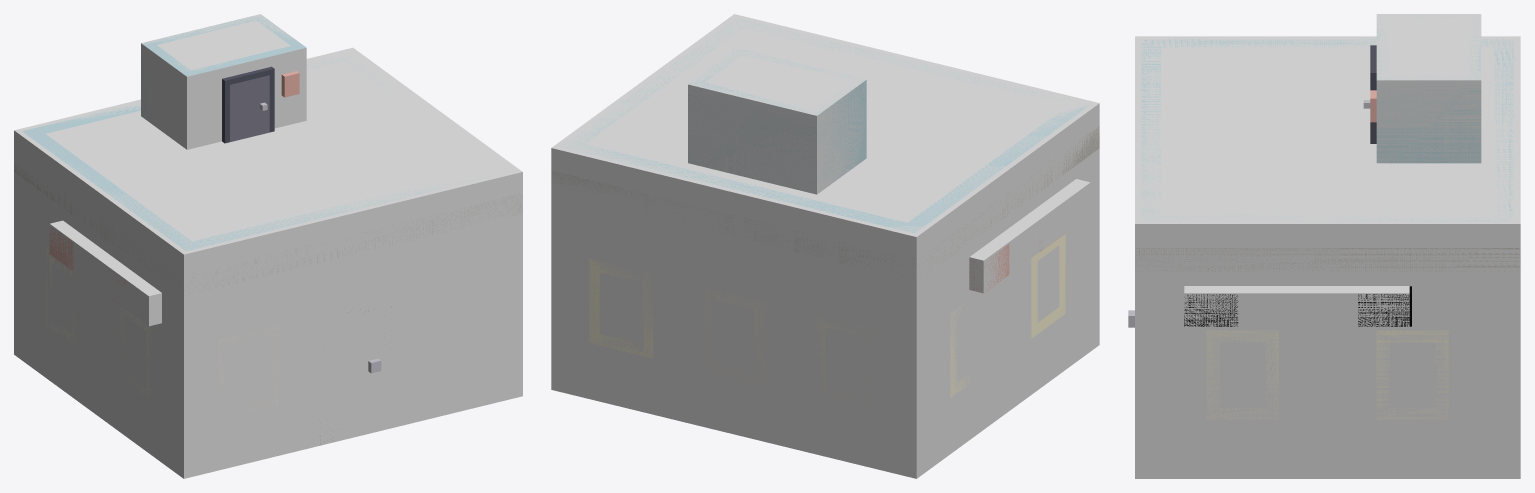
Rendered from Home09_B1_1_01.FBX.
3 renders of one model, left to right at view 1: azimuth 30°, elevation 25°; view 2: azimuth 150°, elevation 25°; view 3: azimuth 270°, elevation 25°, orthographic. The views are drawn at different scales.
Parts seen in each view (by area): view 1: Home09_B1_Damage_1_01, Home09_B1_Live_1_01; view 2: Home09_B1_Damage_1_01, Home09_B1_Live_1_01; view 3: Home09_B1_Damage_1_01, Home09_B1_Live_1_01.
Boxes of the visible parts, x1,y1,x2,y2 form: Home09_B1_Damage_1_01: [14, 14, 522, 478]; Home09_B1_Live_1_01: [14, 14, 522, 444]; Home09_B1_Damage_1_01: [551, 14, 1099, 478]; Home09_B1_Live_1_01: [551, 18, 1099, 405]; Home09_B1_Damage_1_01: [1135, 14, 1520, 478]; Home09_B1_Live_1_01: [1128, 14, 1520, 419].
Size of the model in its own units: 5.59 by 4.34 by 4.57.
